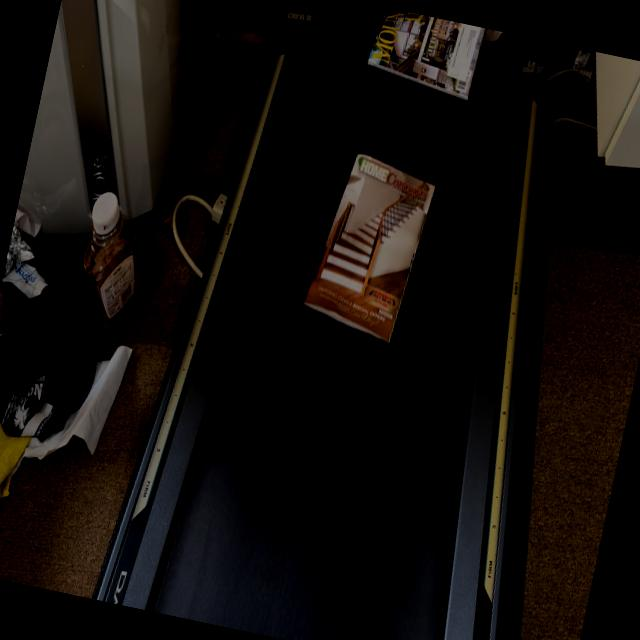Trash: (294, 141, 462, 371), (348, 2, 502, 116)
